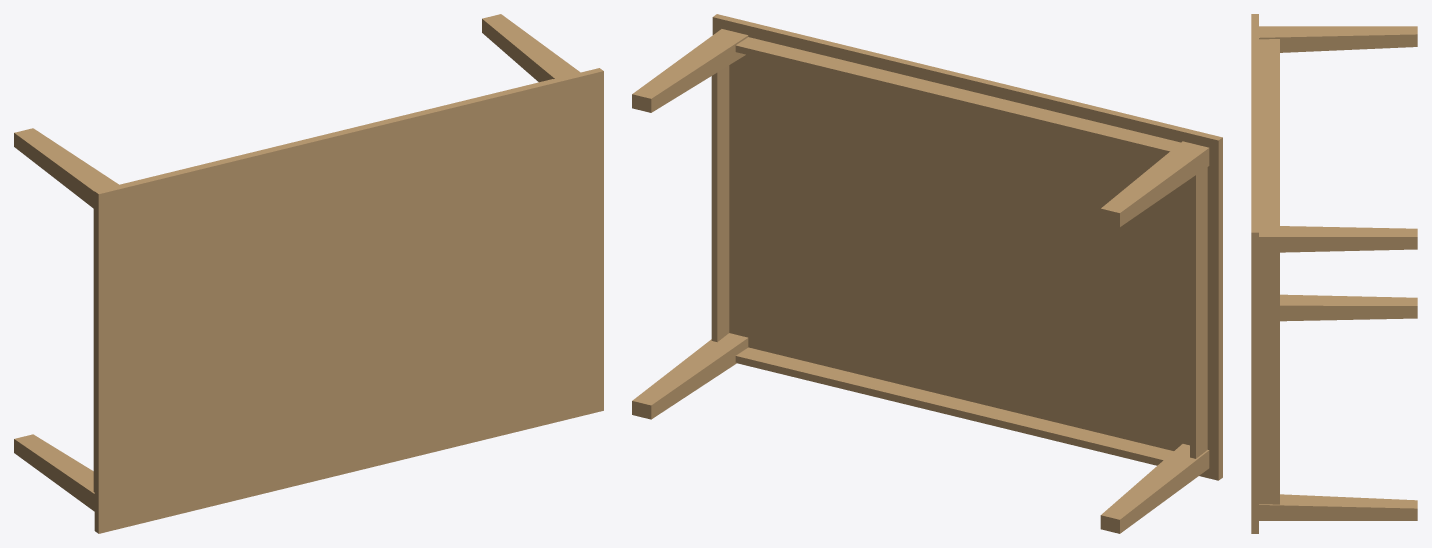
The model's file is table.obj.
3 views of the same model, side by side, from view 1: azimuth 30°, elevation 25°; view 2: azimuth 150°, elevation 25°; view 3: azimuth 270°, elevation 25° (orthographic). The views are drawn at different scales.
Visible parts, largest first — view 1: Box264, Box203, Box204, Box252; view 2: Box264, Box228, Box219, Box209, Box210, Box208, Box203, Box204, Box252; view 3: Box209, Box264, Box204, Box228, Box208, Box203, Box252.
Part boxes in pixels (x1,y1,x2,y2): Box264: (94, 68, 603, 533); Box203: (14, 128, 119, 208); Box204: (482, 14, 580, 82); Box252: (14, 434, 94, 511); Box264: (712, 14, 1222, 480); Box228: (735, 37, 1180, 156); Box219: (735, 347, 1173, 465); Box209: (711, 65, 729, 342); Box210: (1190, 167, 1207, 458); Box208: (632, 333, 748, 419); Box203: (1100, 141, 1209, 227); Box204: (632, 29, 748, 112); Box252: (1100, 444, 1209, 533); Box209: (1259, 252, 1279, 504); Box264: (1251, 14, 1258, 533); Box204: (1259, 225, 1417, 252); Box228: (1259, 39, 1279, 225); Box208: (1259, 494, 1417, 520); Box203: (1259, 26, 1417, 52); Box252: (1280, 294, 1417, 321).
Size of the model in its own units: 148 by 94.92 by 47.46.
